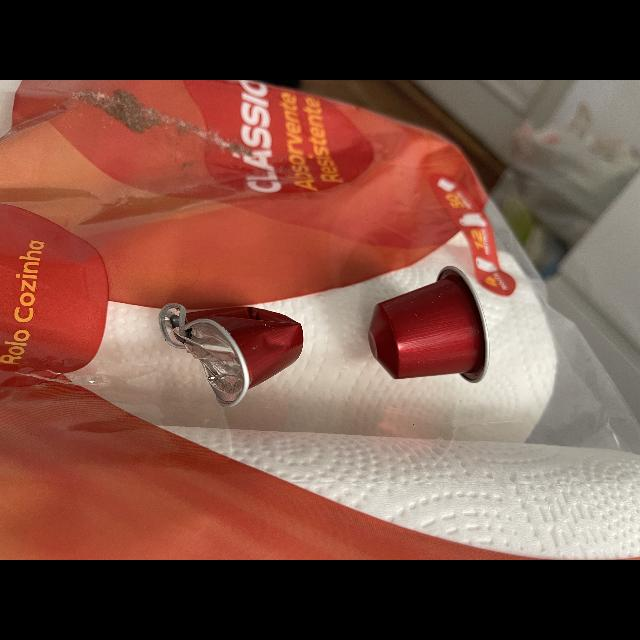damaged_capsule: (161, 289, 311, 411)
intact_capsule: (358, 256, 498, 396)
